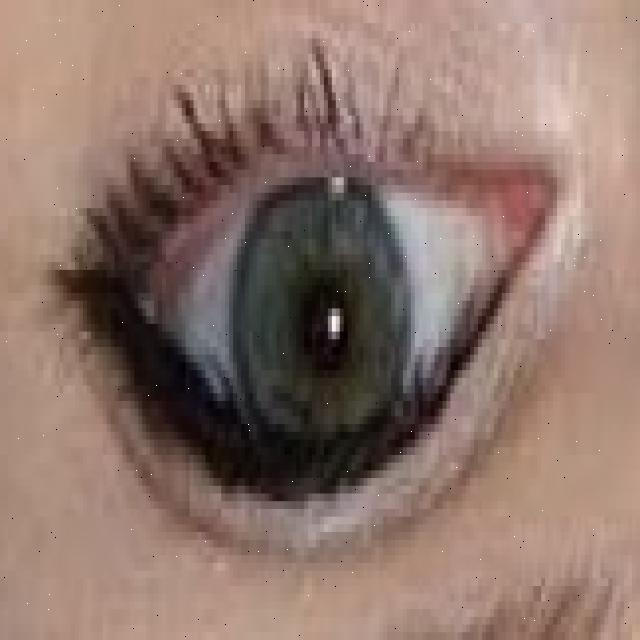Normal: (232, 171, 410, 482)
